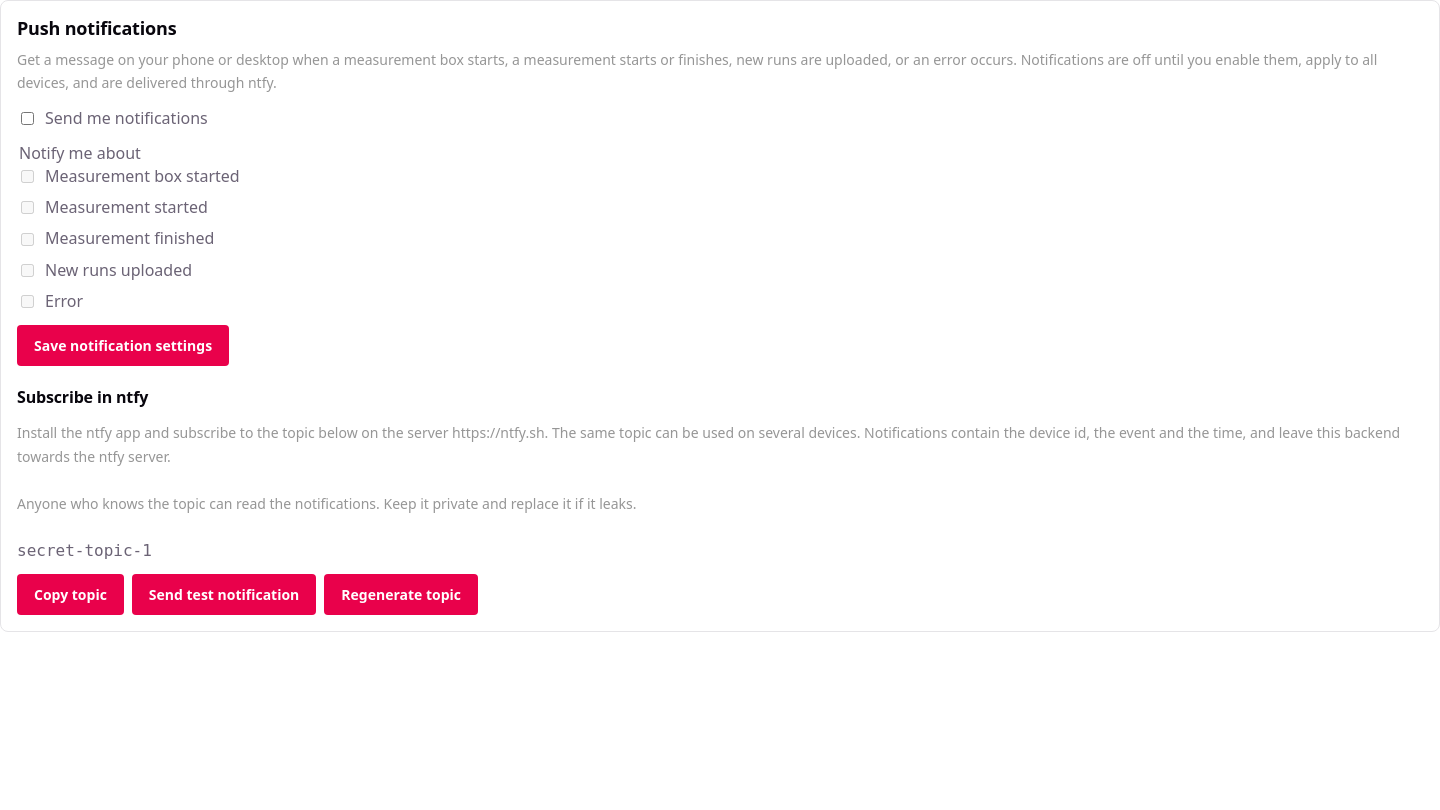
it: NotificationSettingsSection › sends a test notification
Click the button "Send test notification" at point(224, 595), box [132, 574, 316, 616]
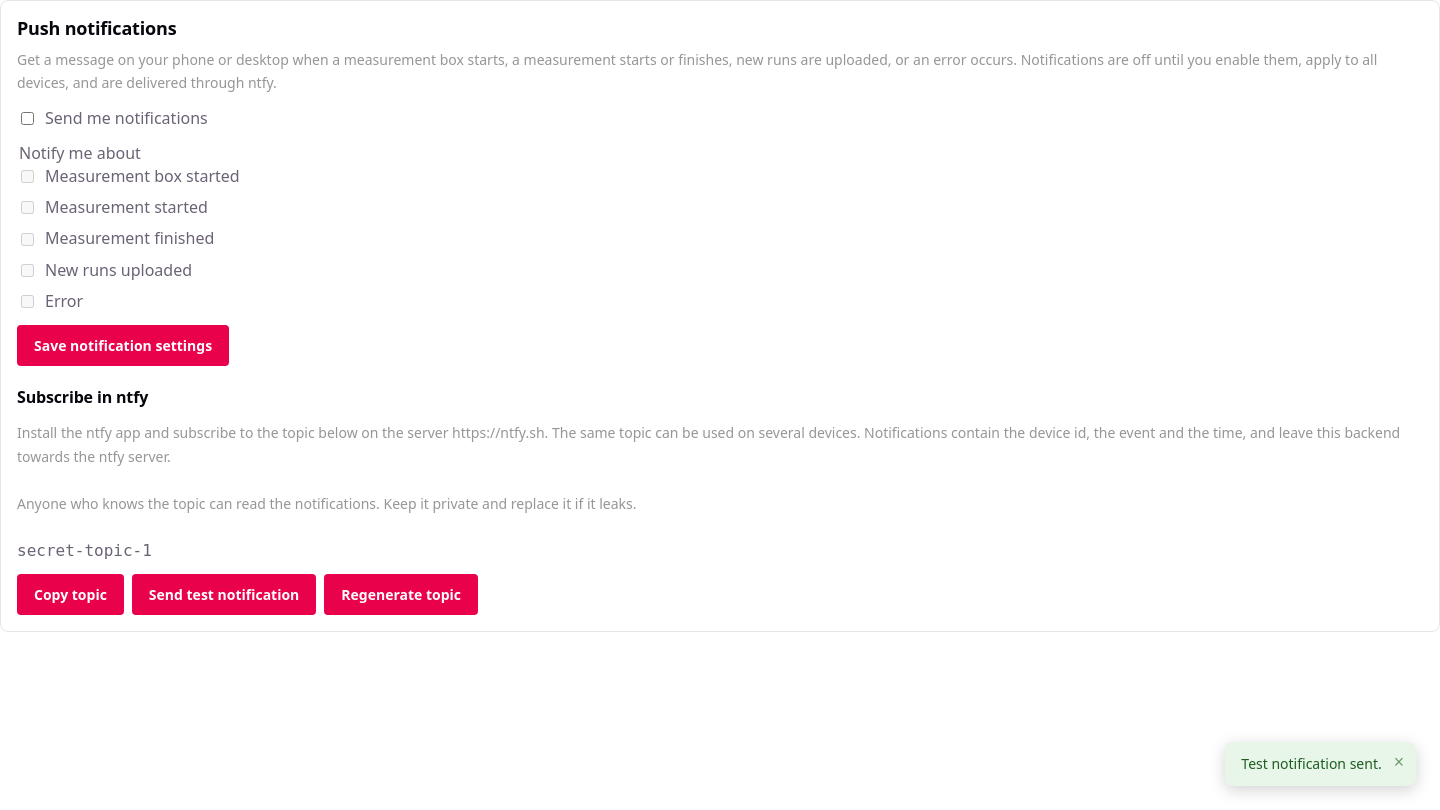
Expected: the text "Test notification sent." is shown, [1241, 754, 1382, 774]
